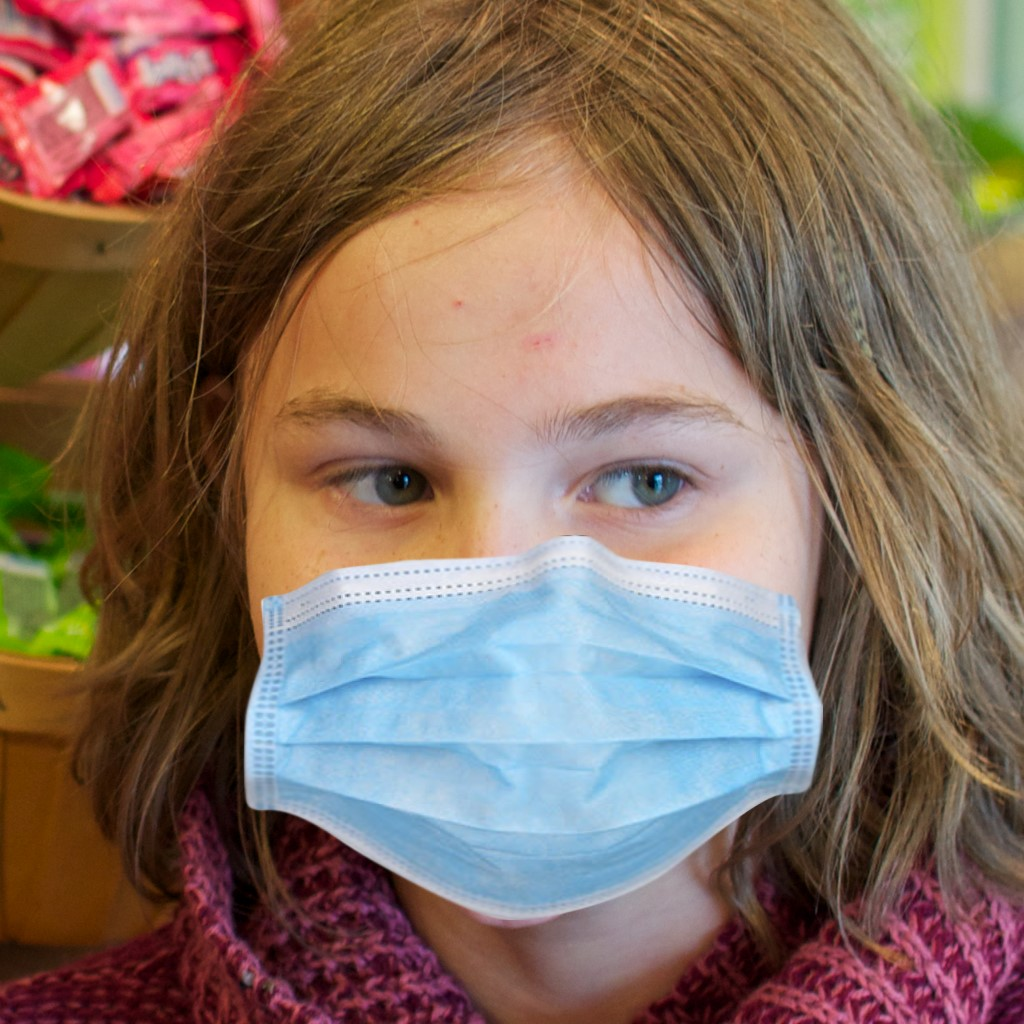con_mascara: (225, 149, 853, 911)
